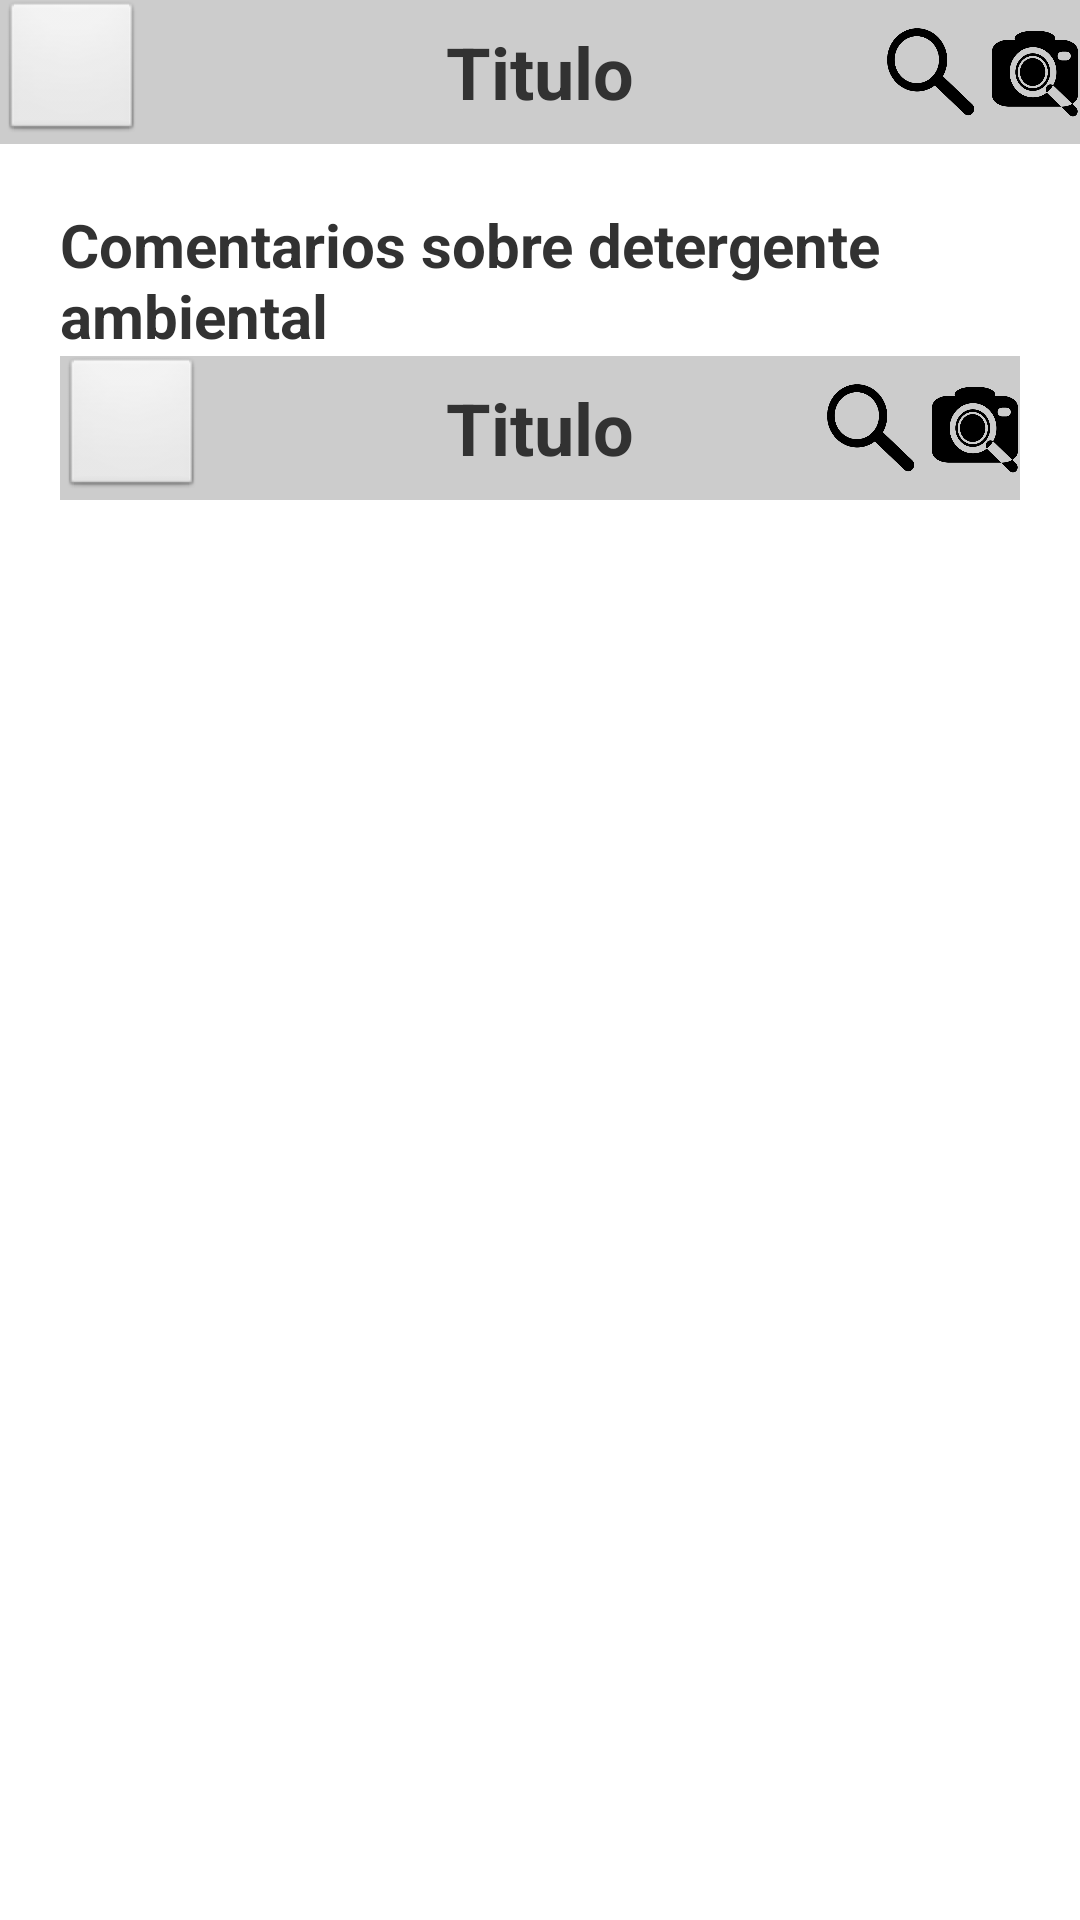

Where to tap for icons on this 1080x1920 app screen, as point (x, y):
search: point (930, 71), point (870, 427)
searchcamera: point (1035, 74), point (975, 430)
